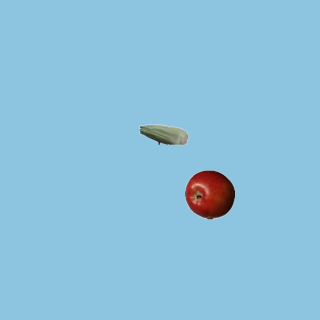Apple Braeburn: (184, 169, 234, 219)
Corn Husk: (138, 109, 188, 159)
